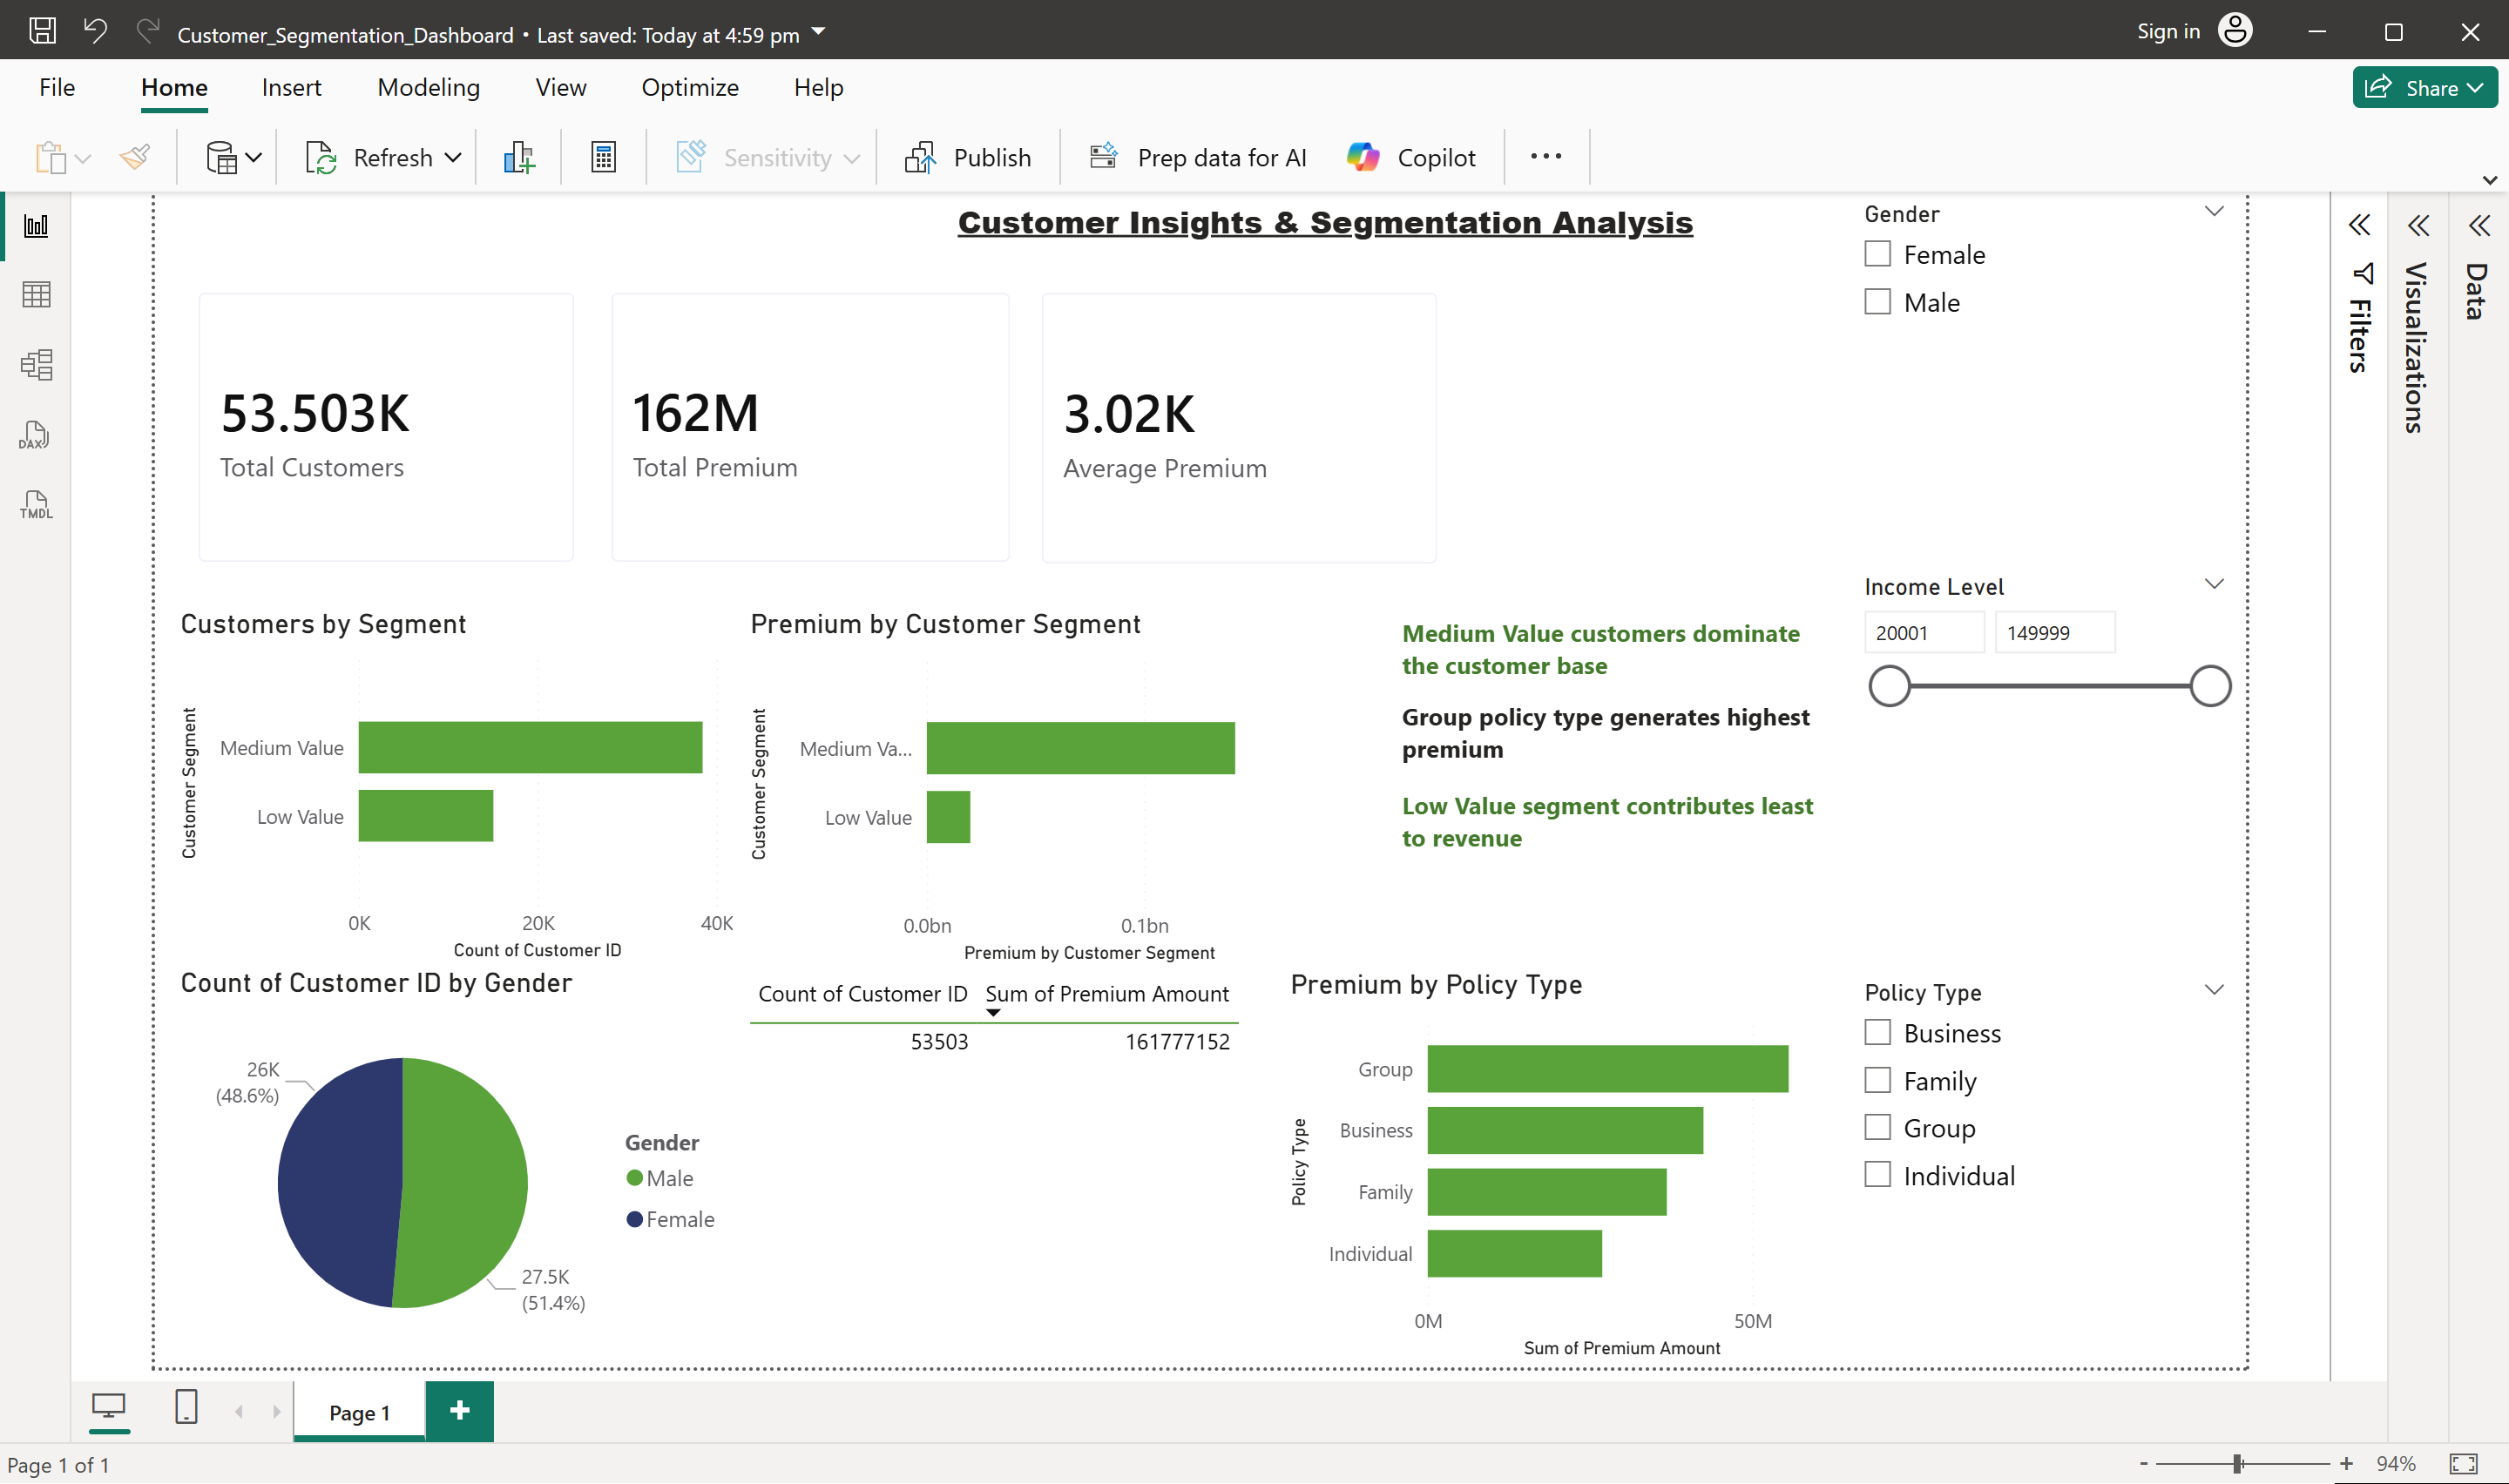

This screenshot's page, from the dashboard's own definition file:
{"tool":"powerbi","page":{"name":"Page 1","canvas":[1280,720],"ordinal":0},"visuals":[{"type":"cardVisual","fields":{"Data":["CountNonNull(customer_segmentation_data.Customer ID)"]},"box":[10,44.5,264.9,199.2],"z":0},{"type":"cardVisual","fields":{"Data":["Sum(customer_segmentation_data.Premium Amount)"]},"box":[262.7,44.5,278.3,199.2],"z":1000},{"type":"cardVisual","fields":{"Data":["Avg(customer_segmentation_data.Premium Amount)"]},"box":[525.4,44.5,276,200.3],"z":2000},{"type":"clusteredBarChart","title":"Customers by Segment","fields":{"Category":["customer_segmentation_data.Customer Segment"],"Y":["CountNonNull(customer_segmentation_data.Customer ID)"]},"box":[10.2,255,348,220.6],"z":3000},{"type":"clusteredBarChart","title":"Premium by Customer Segment","fields":{"Category":["customer_segmentation_data.Customer Segment"],"Y":["Sum(customer_segmentation_data.Premium Amount)"]},"box":[359.5,255,332.7,221.8],"z":4000},{"type":"pieChart","fields":{"Category":["customer_segmentation_data.Gender"],"Y":["CountNonNull(customer_segmentation_data.Customer ID)"]},"box":[10.2,474.3,348,246.1],"z":5000},{"type":"tableEx","fields":{"Values":["CountNonNull(customer_segmentation_data.Customer ID)","Sum(customer_segmentation_data.Premium Amount)"]},"box":[358.2,475.5,332.7,246.1],"z":6000},{"type":"slicer","fields":{"Values":["customer_segmentation_data.Income Level"]},"box":[1033.9,228.2,246.1,246.1],"z":7000},{"type":"slicer","fields":{"Values":["customer_segmentation_data.Policy Type"]},"box":[1033.9,476.8,246.1,243.5],"z":8000},{"type":"slicer","fields":{"Values":["customer_segmentation_data.Gender"]},"box":[1033.9,0,246.1,228.2],"z":9000},{"type":"textbox","box":[486.1,0,466.6,44.9],"z":10000},{"type":"clusteredBarChart","title":"Premium by Policy Type","fields":{"Category":["customer_segmentation_data.Policy Type"],"Y":["Sum(customer_segmentation_data.Premium Amount)"]},"box":[690.5,476.2,344.5,243.4],"z":11000},{"type":"textbox","box":[758,254.6,268.4,51.8],"z":12000},{"type":"textbox","box":[758,306.4,268.4,58.8],"z":13000},{"type":"textbox","box":[758,360.6,268.4,59.9],"z":14000}]}

Visuals, with their boxes on the page's 1280x720 design canvas (x1, y1, x2, y2). These are canvas units, not pixel positions in the 2509x1484 screenshot, which may show the page scaled, cropped or inside an application window:
cardVisual - CountNonNull(customer_segmentation_data.Customer ID): select_region(10, 44, 275, 244)
cardVisual - Sum(customer_segmentation_data.Premium Amount): select_region(263, 44, 541, 244)
cardVisual - Avg(customer_segmentation_data.Premium Amount): select_region(525, 44, 801, 245)
"Customers by Segment" clusteredBarChart: select_region(10, 255, 358, 476)
"Premium by Customer Segment" clusteredBarChart: select_region(360, 255, 692, 477)
pieChart - customer_segmentation_data.Gender x CountNonNull(customer_segmentation_data.Customer ID): select_region(10, 474, 358, 720)
tableEx - CountNonNull(customer_segmentation_data.Customer ID) x Sum(customer_segmentation_data.Premium Amount): select_region(358, 476, 691, 722)
slicer - customer_segmentation_data.Income Level: select_region(1034, 228, 1280, 474)
slicer - customer_segmentation_data.Policy Type: select_region(1034, 477, 1280, 720)
slicer - customer_segmentation_data.Gender: select_region(1034, 0, 1280, 228)
textbox: select_region(486, 0, 953, 45)
"Premium by Policy Type" clusteredBarChart: select_region(690, 476, 1035, 720)
textbox: select_region(758, 255, 1026, 306)
textbox: select_region(758, 306, 1026, 365)
textbox: select_region(758, 361, 1026, 420)
